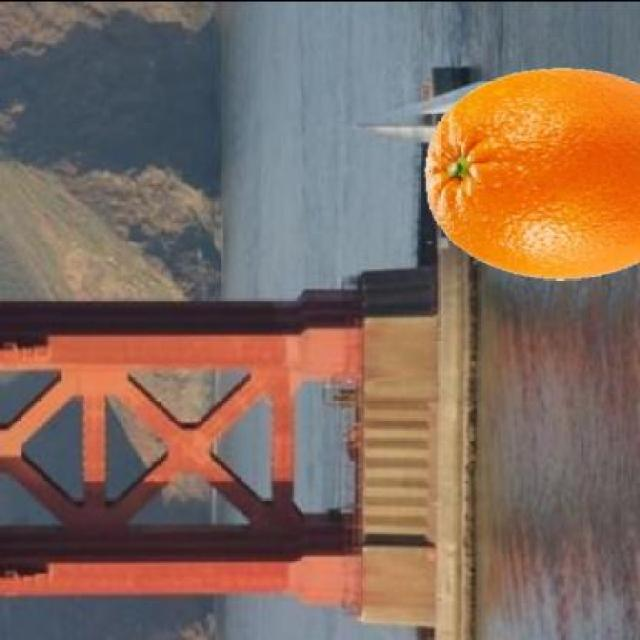Orange: (422, 65, 638, 282)
